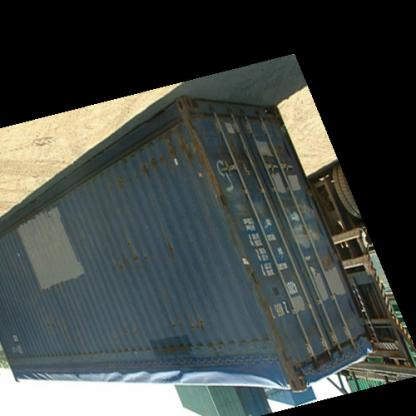Damage: (102, 128, 202, 186), (160, 315, 216, 339), (113, 250, 154, 280), (37, 318, 69, 338), (162, 234, 178, 266)
